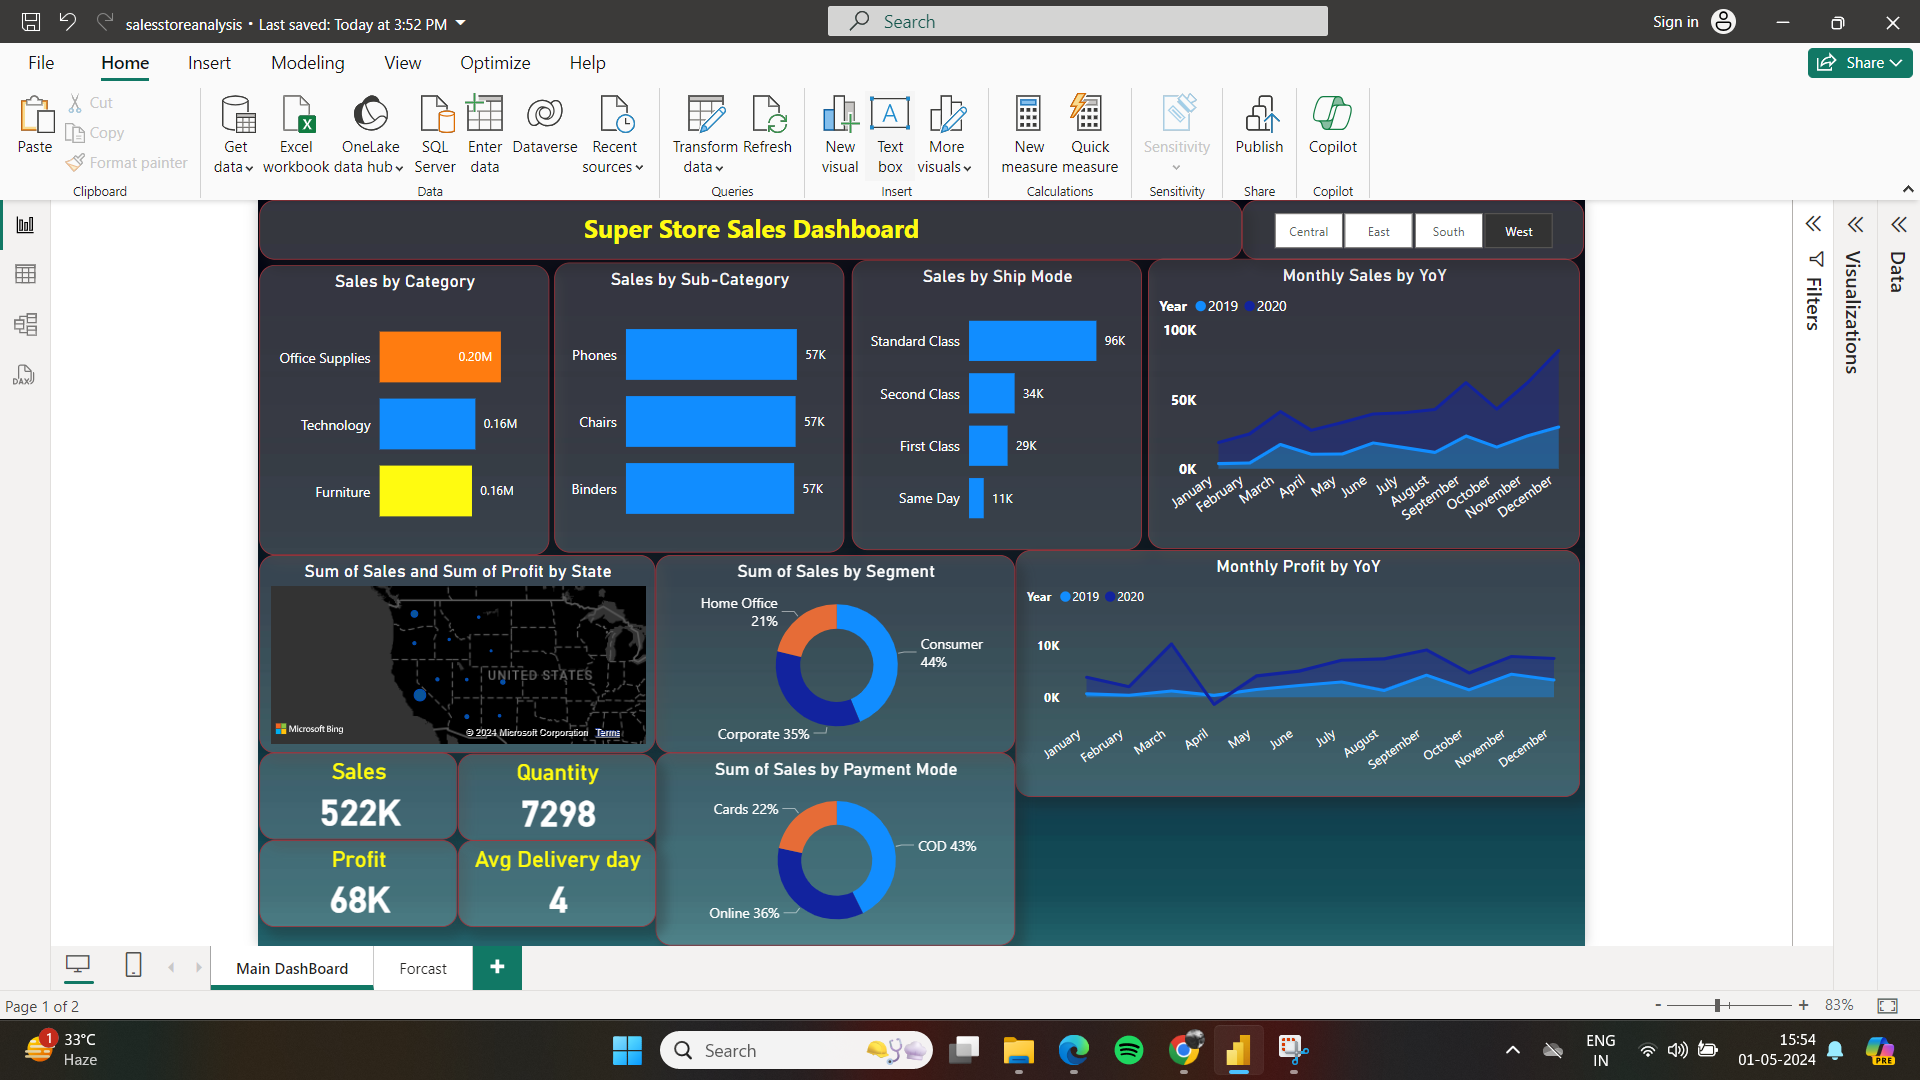

What the dashboard file says about the page in this screenshot:
{"tool":"powerbi","page":{"name":"Main DashBoard","canvas":[1280,720],"ordinal":0},"visuals":[{"type":"clusteredBarChart","title":"Sales by Category","fields":{"Category":["SuperStore_Sales_Dataset.Category"],"Y":["Sum(SuperStore_Sales_Dataset.Sales)"]},"box":[1.2,62.5,280,280],"z":0},{"type":"clusteredBarChart","title":"Sales by Sub-Category","fields":{"Y":["Sum(SuperStore_Sales_Dataset.Sales)"],"Category":["SuperStore_Sales_Dataset.Sub-Category"]},"box":[286.2,60,280,280],"z":1000},{"type":"clusteredBarChart","title":"Sales by Ship Mode","fields":{"Y":["Sum(SuperStore_Sales_Dataset.Sales)"],"Category":["SuperStore_Sales_Dataset.Ship Mode"]},"box":[572.5,57.5,280,280],"z":2000},{"type":"stackedAreaChart","title":"Monthly Sales by YoY","fields":{"Y":["Sum(SuperStore_Sales_Dataset.Sales)"],"Series":["SuperStore_Sales_Dataset.Order Date.Variation.Date Hierarchy.Year"],"Category":["SuperStore_Sales_Dataset.Order Date.Variation.Date Hierarchy.Month","SuperStore_Sales_Dataset.Order Date.Variation.Date Hierarchy.Day"]},"box":[858.6,57.1,417.1,280],"z":3000},{"type":"stackedAreaChart","title":"Monthly Profit by YoY","fields":{"Series":["SuperStore_Sales_Dataset.Order Date.Variation.Date Hierarchy.Year"],"Category":["SuperStore_Sales_Dataset.Order Date.Variation.Date Hierarchy.Month","SuperStore_Sales_Dataset.Order Date.Variation.Date Hierarchy.Day"],"Y":["Sum(SuperStore_Sales_Dataset.Profit)"]},"box":[731.2,337.5,545,238.8],"z":4000},{"type":"map","fields":{"Category":["SuperStore_Sales_Dataset.State"],"Size":["Sum(SuperStore_Sales_Dataset.Sales)"]},"box":[1.2,342.5,382.5,191.2],"z":5000},{"type":"donutChart","fields":{"Category":["SuperStore_Sales_Dataset.Segment"],"Y":["Sum(SuperStore_Sales_Dataset.Sales)"]},"box":[383.8,342.5,347.5,191.2],"z":6000},{"type":"donutChart","fields":{"Y":["Sum(SuperStore_Sales_Dataset.Sales)"],"Category":["SuperStore_Sales_Dataset.Payment Mode"]},"box":[383.8,533.8,347.5,186.2],"z":7000},{"type":"slicer","fields":{"Values":["SuperStore_Sales_Dataset.Region"]},"box":[950,0,330,57.5],"z":8000},{"type":"textbox","box":[1.2,0,948.8,57.5],"z":9000},{"type":"card","title":"Sales","fields":{"Values":["Sum(SuperStore_Sales_Dataset.Sales)"]},"box":[1.2,533.8,191.2,83.8],"z":10000},{"type":"card","title":"Profit","fields":{"Values":["Sum(SuperStore_Sales_Dataset.Profit)"]},"box":[1.2,617.5,191.2,83.8],"z":11000},{"type":"card","title":"Quantity","fields":{"Values":["Sum(SuperStore_Sales_Dataset.Quantity)"]},"box":[192.5,535,191.2,83.8],"z":12000},{"type":"card","title":"Avg Delivery day","fields":{"Values":["Avg(SuperStore_Sales_Dataset.AvgDelivery)"]},"box":[192.5,617.5,191.2,83.8],"z":13000}]}

Visuals, with their boxes on the page's 1280x720 design canvas (x1, y1, x2, y2). These are canvas units, not pixel positions in the 1920x1080 screenshot, which may show the page scaled, cropped or inside an application window:
"Sales by Category" clusteredBarChart: Rect(1, 62, 281, 342)
"Sales by Sub-Category" clusteredBarChart: Rect(286, 60, 566, 340)
"Sales by Ship Mode" clusteredBarChart: Rect(572, 58, 852, 338)
"Monthly Sales by YoY" stackedAreaChart: Rect(859, 57, 1276, 337)
"Monthly Profit by YoY" stackedAreaChart: Rect(731, 338, 1276, 576)
map - SuperStore_Sales_Dataset.State x Sum(SuperStore_Sales_Dataset.Sales): Rect(1, 342, 384, 534)
donutChart - SuperStore_Sales_Dataset.Segment x Sum(SuperStore_Sales_Dataset.Sales): Rect(384, 342, 731, 534)
donutChart - Sum(SuperStore_Sales_Dataset.Sales) x SuperStore_Sales_Dataset.Payment Mode: Rect(384, 534, 731, 720)
slicer - SuperStore_Sales_Dataset.Region: Rect(950, 0, 1280, 58)
textbox: Rect(1, 0, 950, 58)
"Sales" card: Rect(1, 534, 192, 618)
"Profit" card: Rect(1, 618, 192, 701)
"Quantity" card: Rect(192, 535, 384, 619)
"Avg Delivery day" card: Rect(192, 618, 384, 701)
